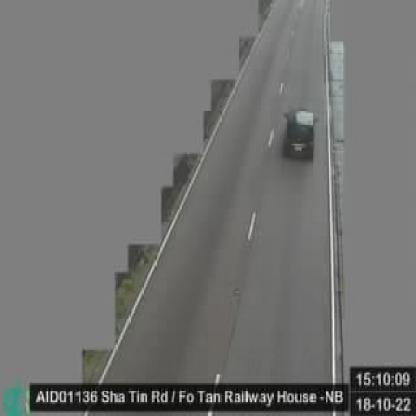Car: (281, 110, 318, 162)
